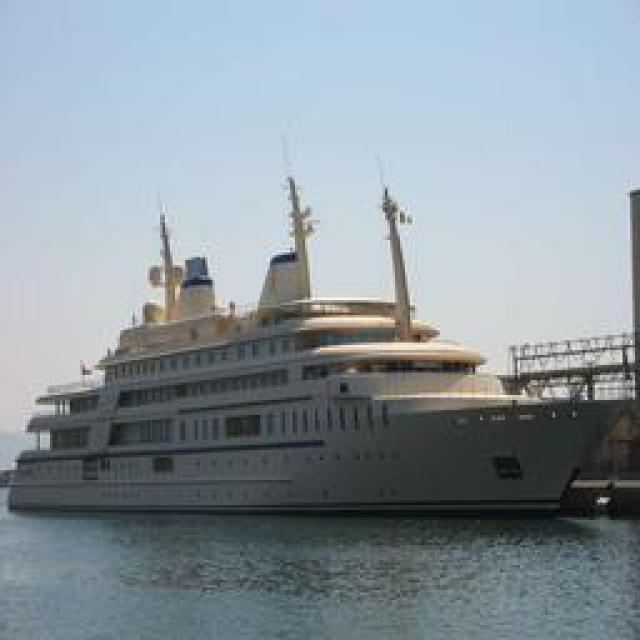Ship: (9, 143, 634, 521)
